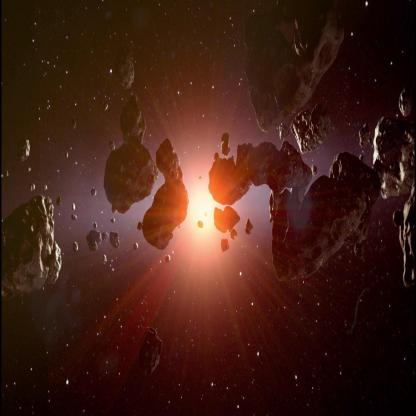other: (184, 185, 228, 248)
